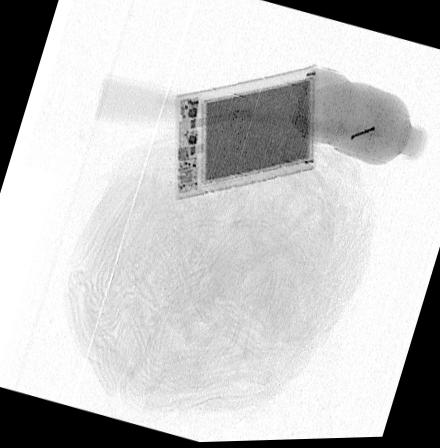Powerbank: (173, 67, 317, 202)
